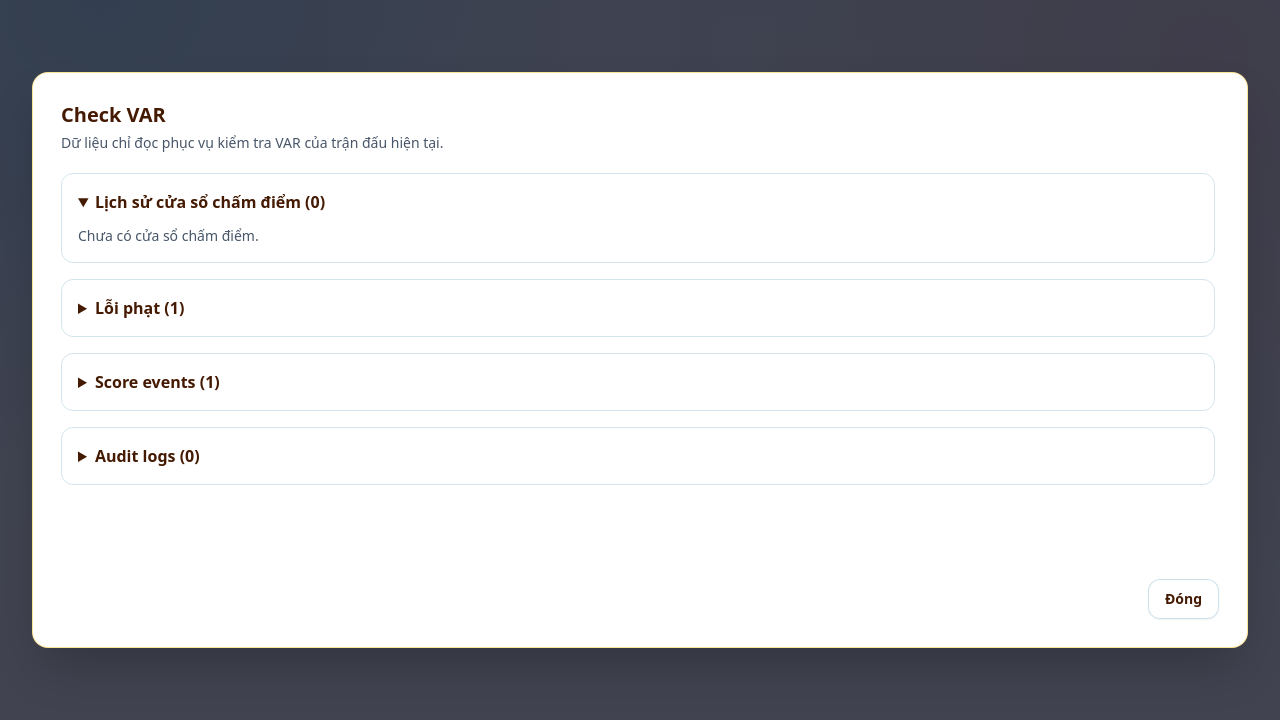
VarMonitoringDialog › uses stable fallbacks for nullable or missing history fields
Click the heading "Score events (1)" at (157, 382), box [95,371,220,393]
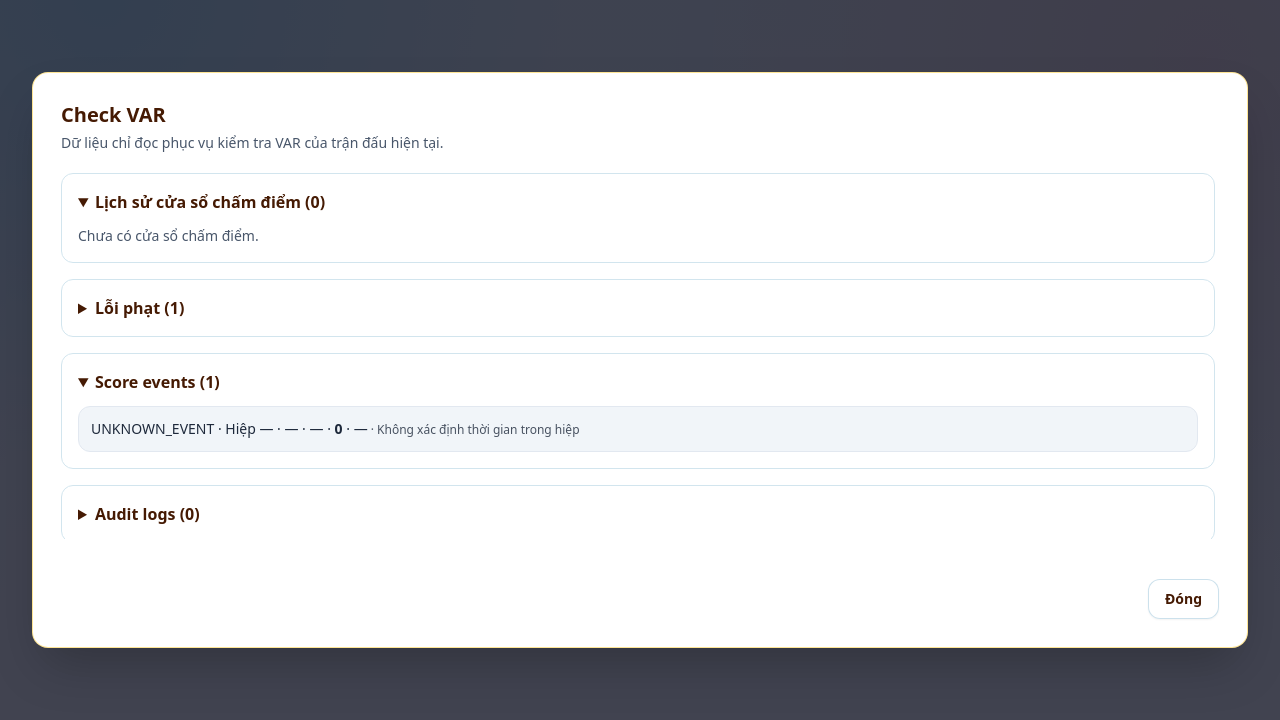
Expected: the heading "Lịch sử cửa sổ chấm điểm (0)" is shown, [95,191,325,213]
Expected: the list item "UNKNOWN_EVENT" is shown, [91,419,214,438]
